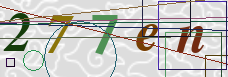2: (2, 11, 30, 52)
7: (47, 14, 75, 55), (90, 13, 118, 54)
e: (134, 23, 160, 52)
n: (175, 25, 205, 54)
